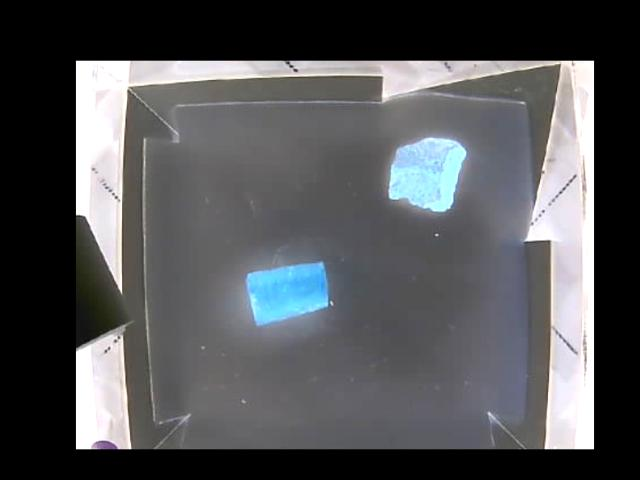Brisk: (389, 135, 466, 212)
Carrot: (247, 261, 329, 324)
